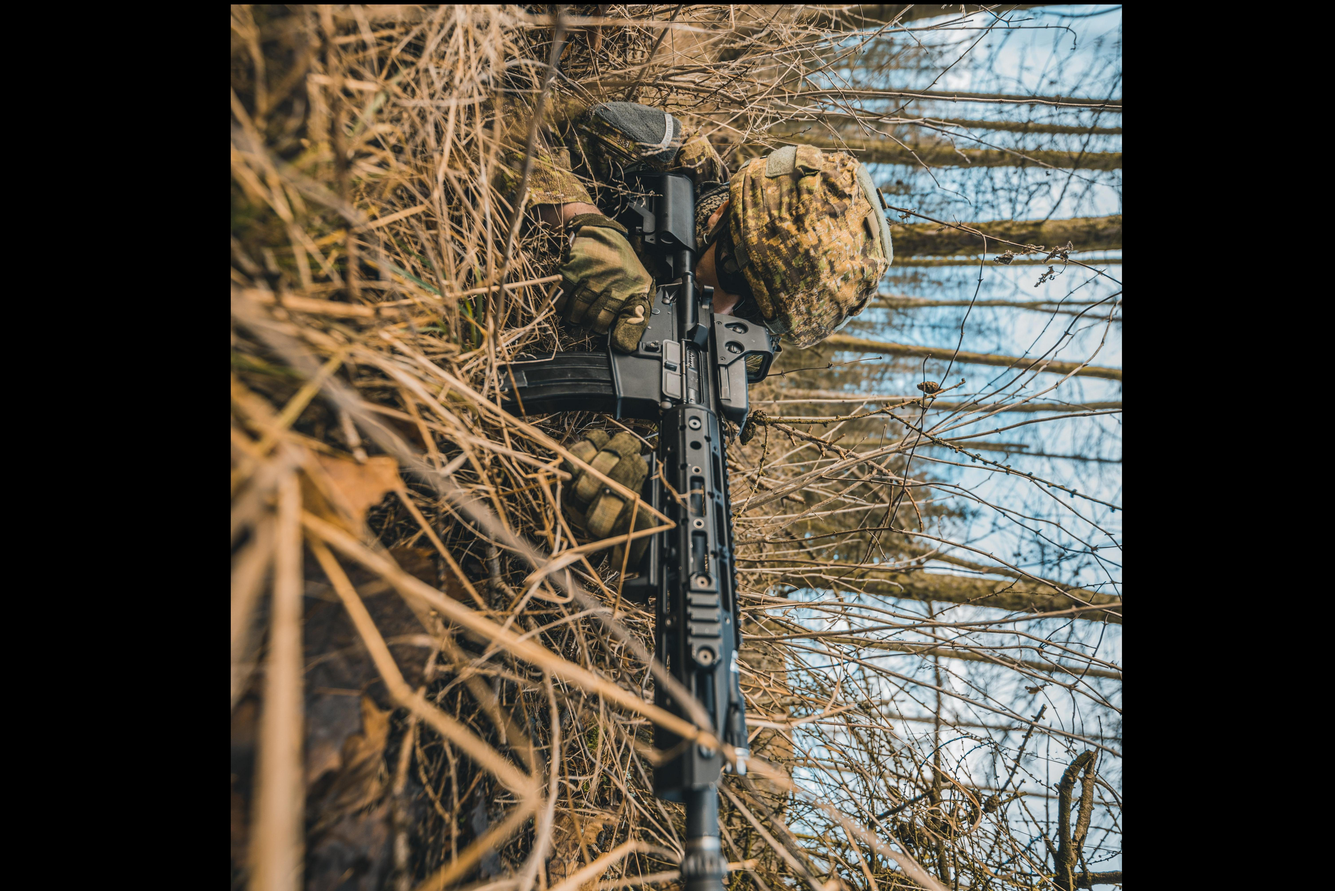larga: (512, 175, 774, 891)
